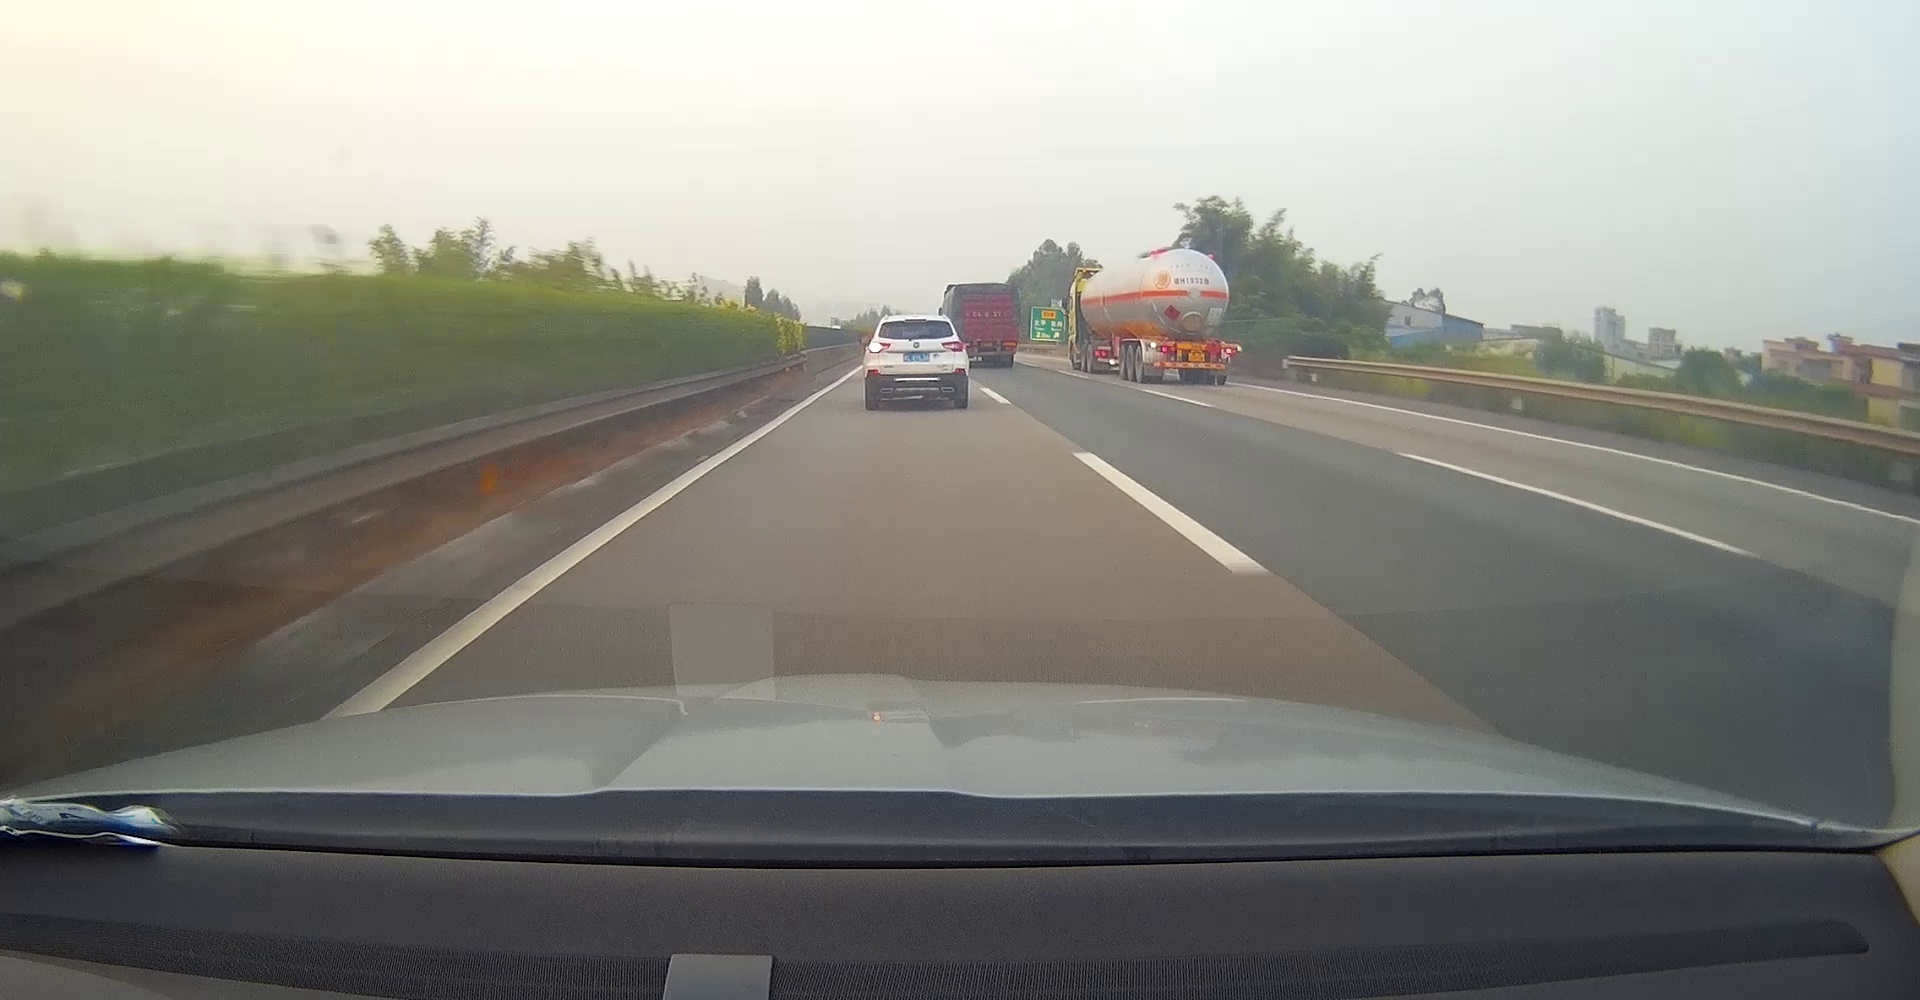L_light: (867, 340, 890, 353), (1157, 346, 1170, 352)
R_light: (942, 340, 964, 352), (1225, 348, 1236, 354)
T_light: (904, 319, 927, 321), (1192, 343, 1204, 346)
day-left: (863, 313, 968, 409)
day-no: (1148, 339, 1243, 385)
